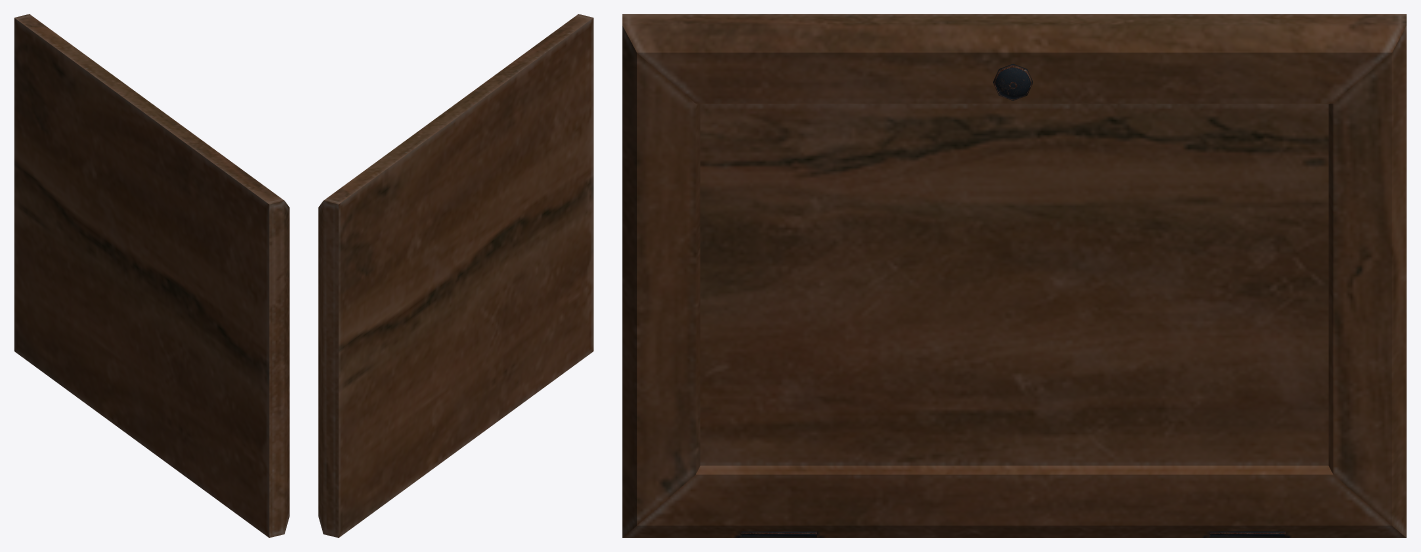
The model's file is SM_RifleCabinetDoorB.FBX.
The picture shows the model from 3 angles, left to right: view 1: azimuth 30°, elevation 25°; view 2: azimuth 150°, elevation 25°; view 3: azimuth 270°, elevation 25°; orthographic projection. The views are drawn at different scales.
Visible parts, largest first — view 1: SM_RifleCabinetDoorB; view 2: SM_RifleCabinetDoorB; view 3: SM_RifleCabinetDoorB.
Boxes of the visible parts, bbox=[...] form: SM_RifleCabinetDoorB: bbox=[14, 14, 289, 537]; SM_RifleCabinetDoorB: bbox=[318, 14, 593, 537]; SM_RifleCabinetDoorB: bbox=[622, 14, 1406, 537].
Bounding box in the file's own units: 4.79 × 43.43 × 60.21.
